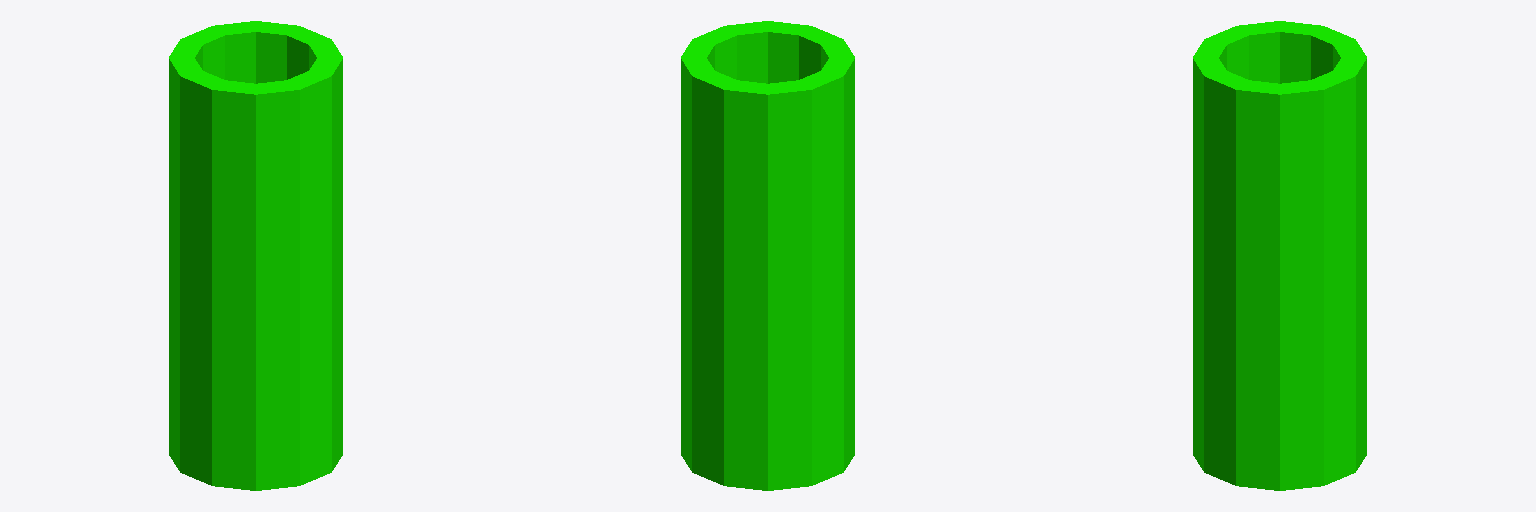
The model's file is Pipe.obj.
3 renders of one model, left to right at view 1: azimuth 30°, elevation 25°; view 2: azimuth 150°, elevation 25°; view 3: azimuth 270°, elevation 25°, orthographic.
Parts seen in each view (by area): view 1: Pipe; view 2: Pipe; view 3: Pipe.
Boxes of the visible parts, <box> form: Pipe: <box>169,21,342,490</box>; Pipe: <box>681,21,854,490</box>; Pipe: <box>1193,21,1366,490</box>.
Bounding box in the file's own units: 2 × 5 × 2.